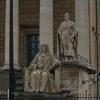Statue: (21, 7, 80, 96)
